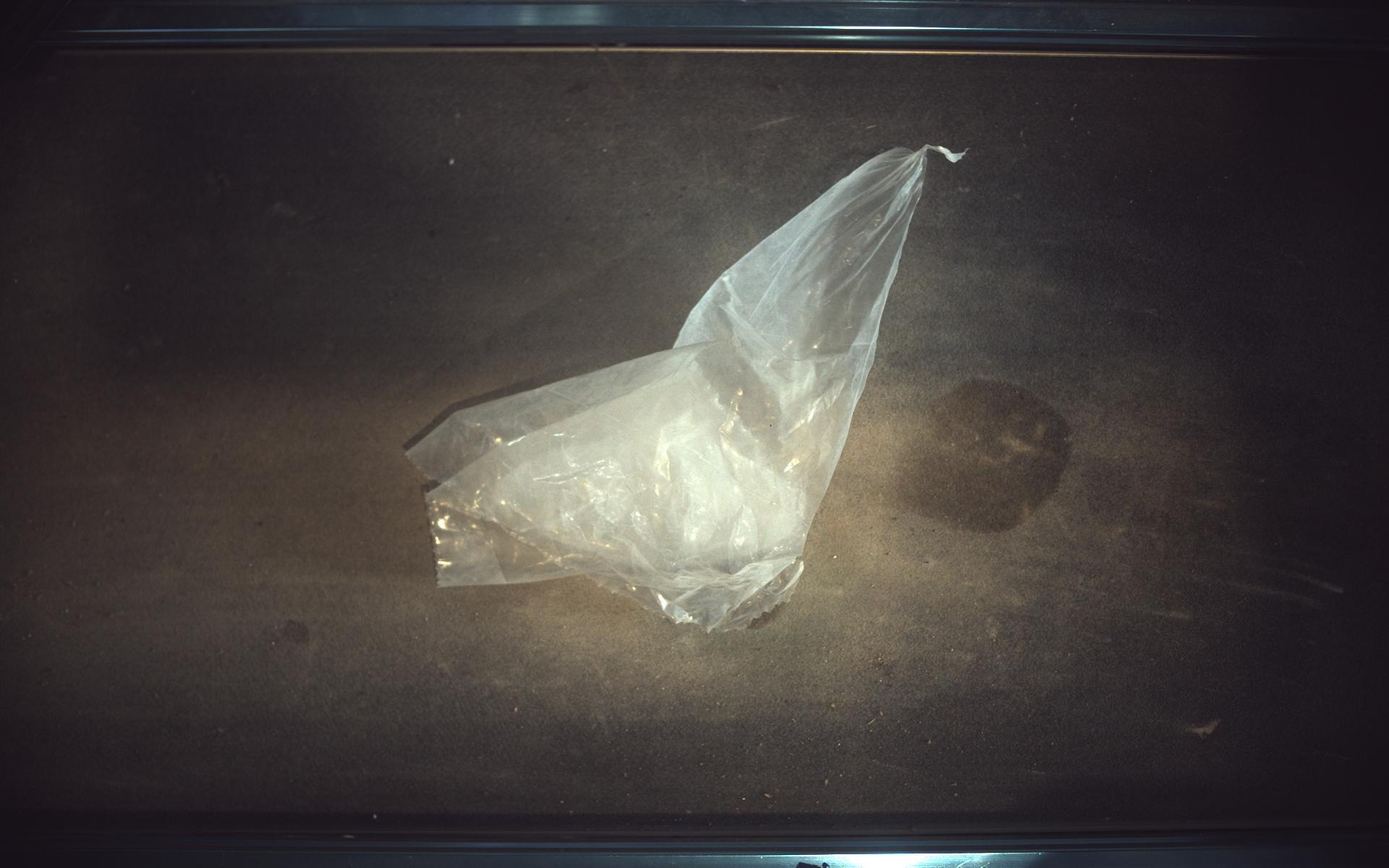general_w: (407, 145, 965, 632)
